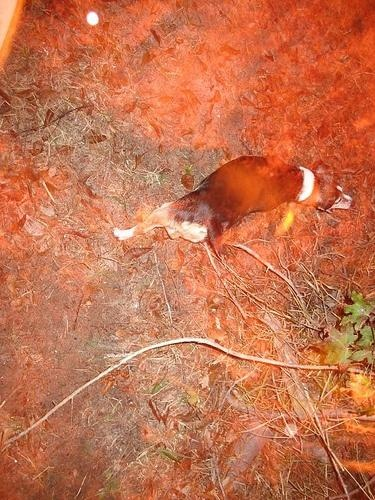dog: (110, 154, 358, 249)
